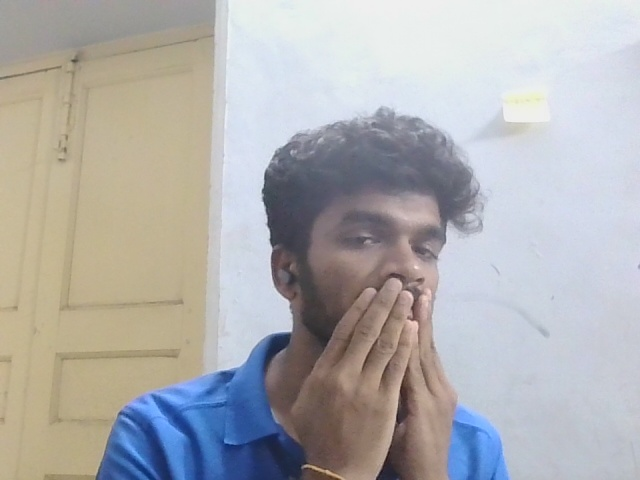Iloveyou: (296, 267, 477, 480)
